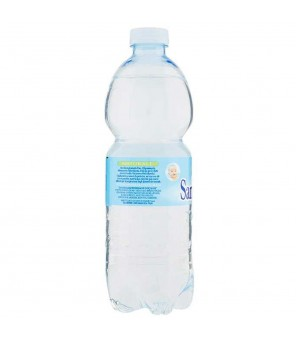PlasticBottle: (90, 21, 207, 320)
